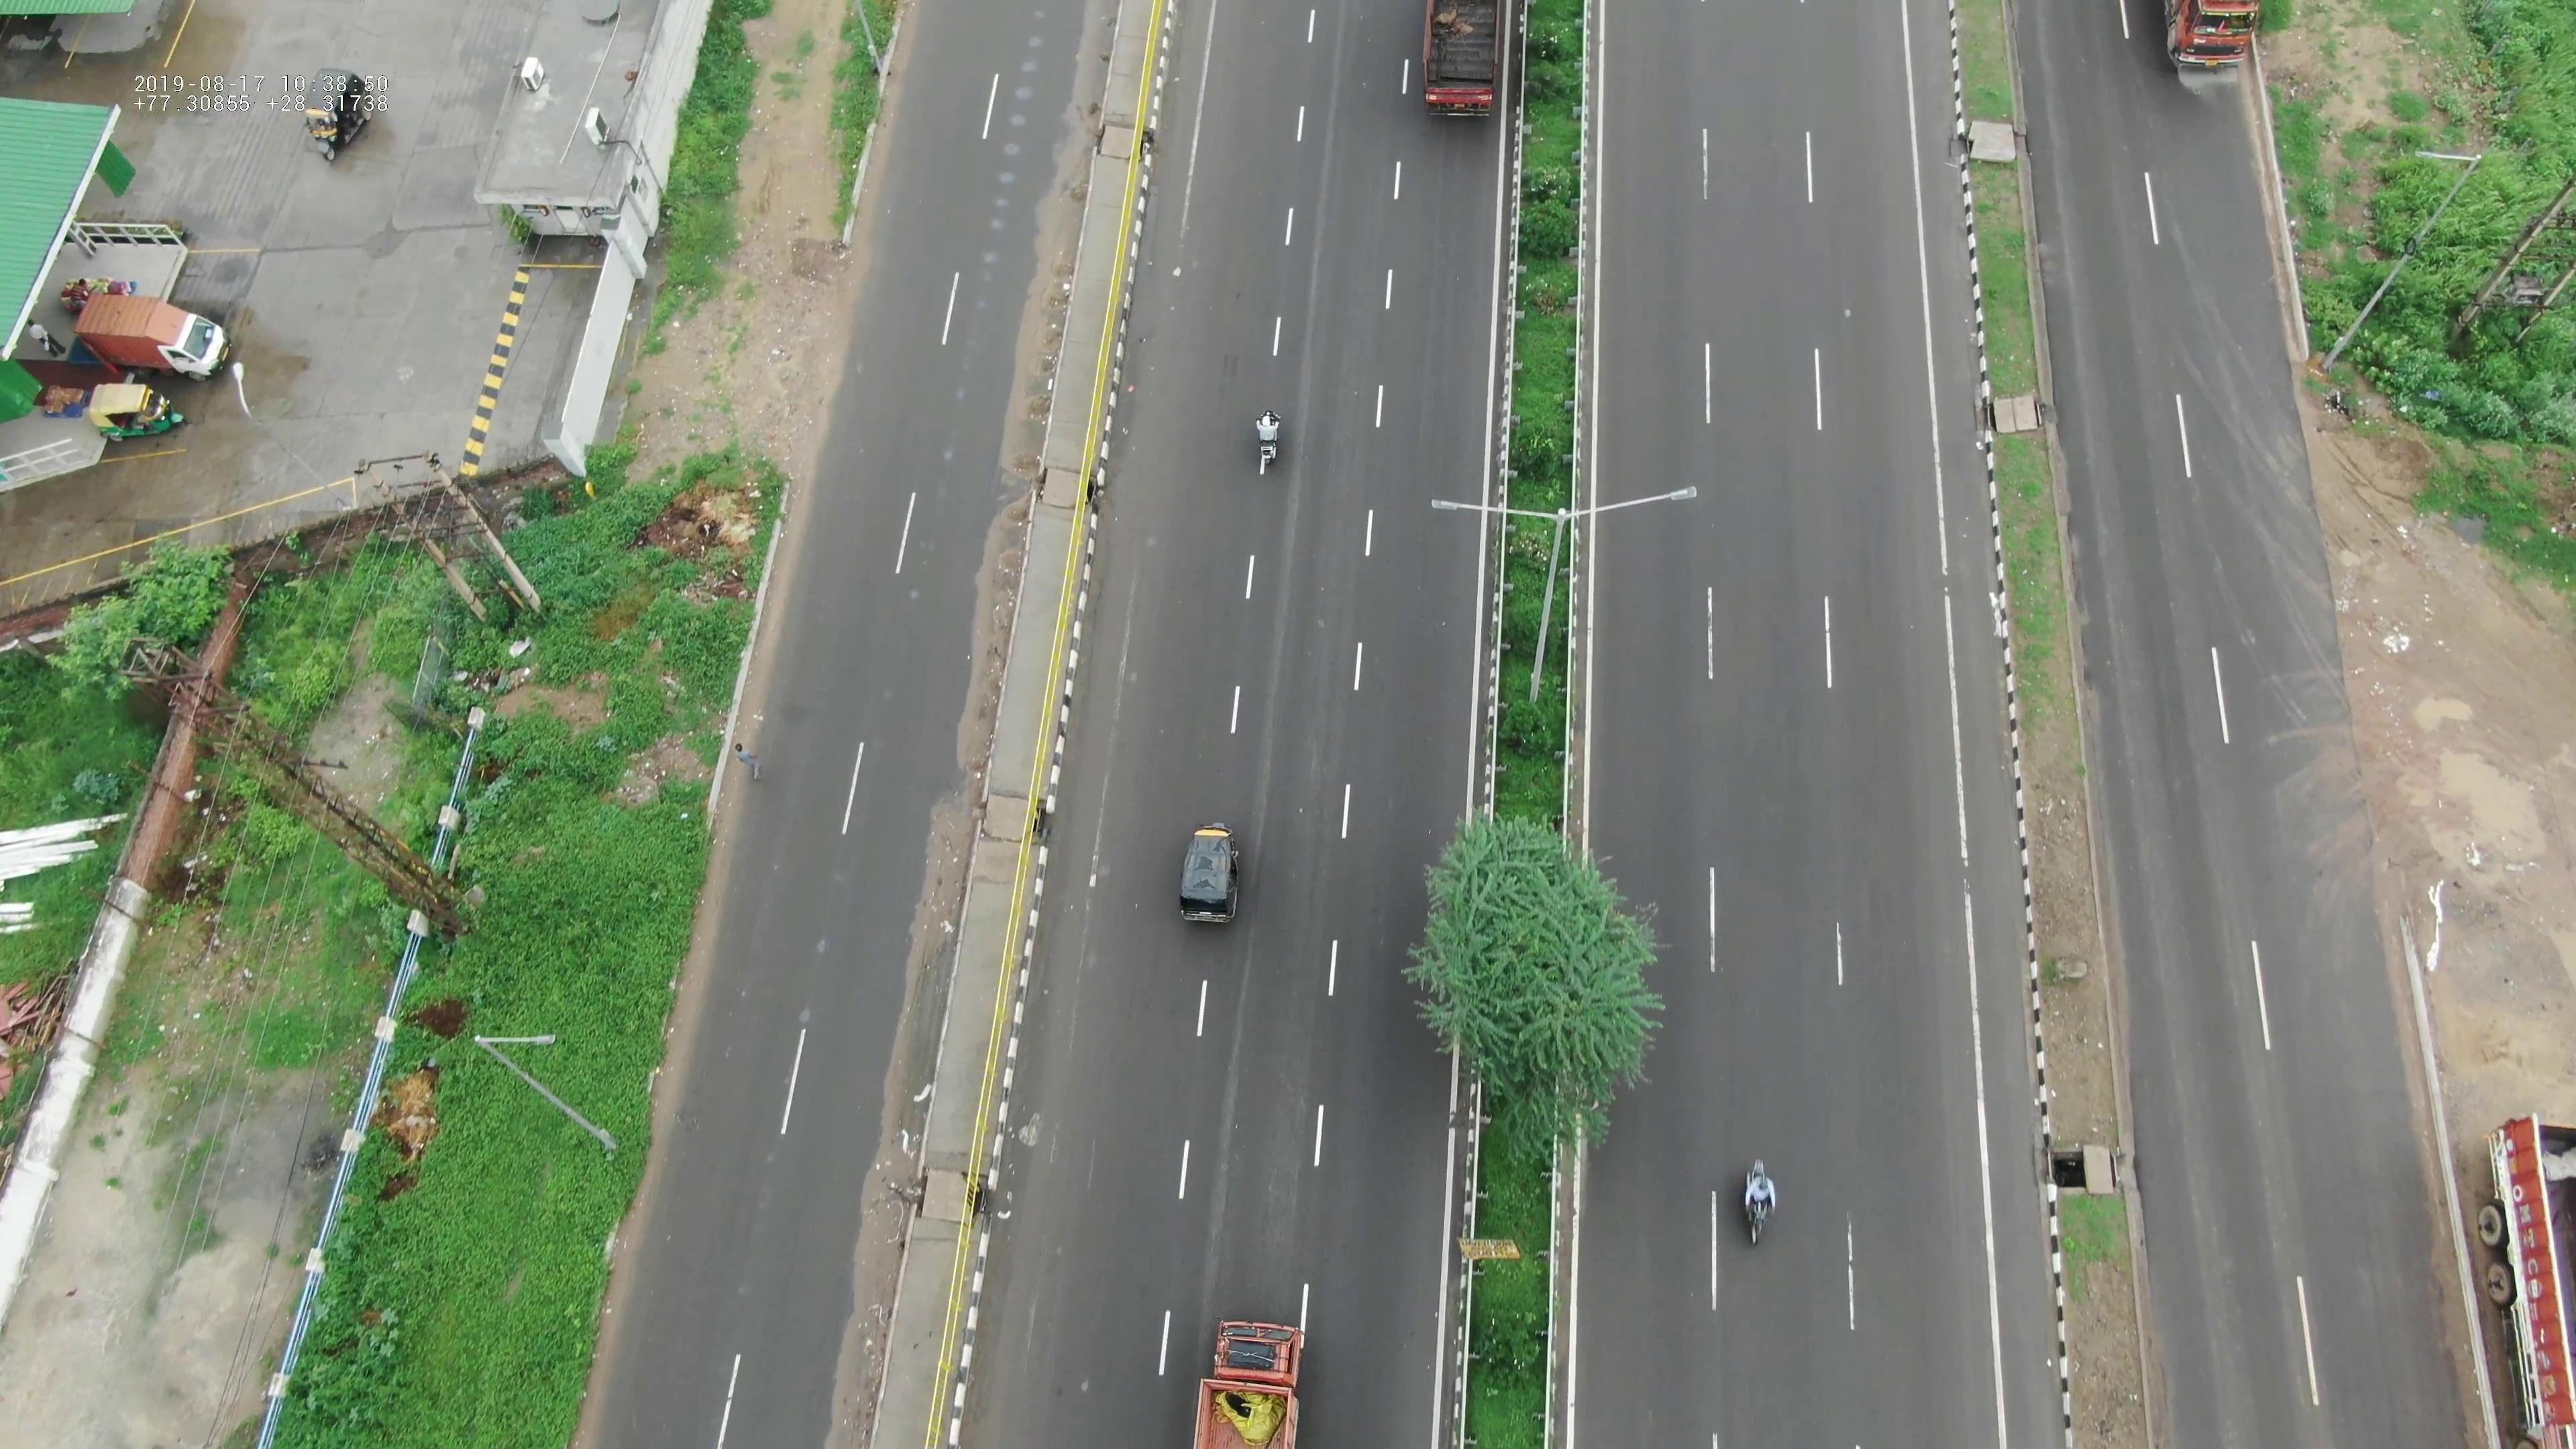Potholes: (955, 136, 1026, 331), (791, 847, 865, 1021), (899, 419, 966, 591), (980, 46, 1044, 186)
